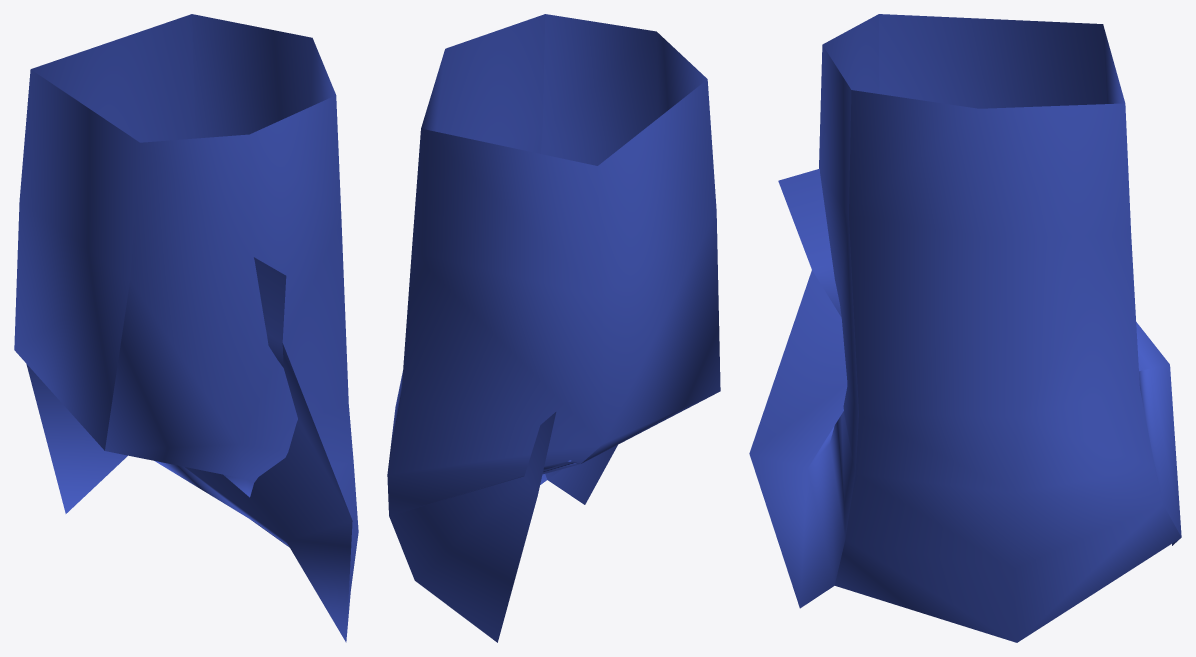
File: right_arm.glb
3 renders of one model, left to right at view 1: azimuth 30°, elevation 25°; view 2: azimuth 150°, elevation 25°; view 3: azimuth 270°, elevation 25°, orthographic. The views are drawn at different scales.
Visible parts, largest first — view 1: polo-blue_RIGHT_ARM; view 2: polo-blue_RIGHT_ARM; view 3: polo-blue_RIGHT_ARM.
Part boxes in pixels (x1=…): polo-blue_RIGHT_ARM: x1=14, y1=14, x2=358, y2=642; polo-blue_RIGHT_ARM: x1=387, y1=14, x2=720, y2=642; polo-blue_RIGHT_ARM: x1=749, y1=14, x2=1181, y2=642.
Bounding box in the file's own units: 0.1394 × 0.252 × 0.1856.
Materials: 1 (1 with a texture image).
